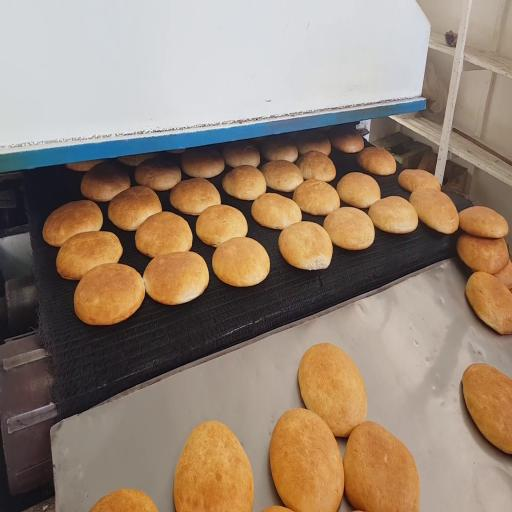bread: (270, 409, 344, 511), (174, 421, 253, 511), (344, 421, 420, 511), (298, 343, 367, 437), (462, 363, 511, 454), (74, 264, 145, 325), (143, 251, 209, 305), (56, 231, 122, 280), (212, 237, 270, 286), (466, 272, 511, 334), (43, 201, 103, 246), (279, 221, 332, 270), (135, 212, 192, 257), (108, 186, 162, 231), (410, 188, 458, 234), (323, 207, 374, 250), (196, 205, 247, 247), (457, 234, 509, 274), (81, 162, 130, 201), (170, 178, 220, 215), (369, 196, 418, 233), (252, 193, 301, 229), (293, 179, 340, 215), (135, 155, 181, 191), (459, 206, 508, 238), (222, 165, 266, 200), (337, 173, 380, 208), (90, 489, 157, 511), (262, 160, 303, 192), (182, 147, 224, 178), (297, 151, 336, 182), (357, 147, 396, 175), (223, 141, 260, 167), (262, 136, 298, 162), (295, 131, 331, 156), (398, 170, 440, 191), (330, 129, 364, 153), (118, 153, 158, 166), (66, 160, 104, 172), (495, 261, 511, 289), (263, 506, 291, 511), (167, 149, 185, 154)
